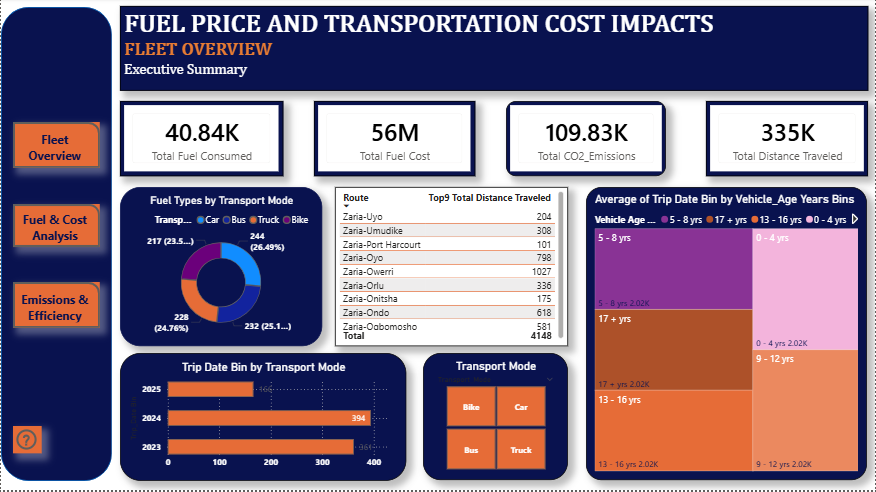

This screenshot's page, from the dashboard's own definition file:
{"tool":"powerbi","page":{"name":"Page 1","canvas":[1280,720],"ordinal":0},"visuals":[{"type":"textbox","box":[174.1,11.7,1094.6,124.4],"z":0},{"type":"shape","box":[0,13.2,162.4,693.7],"z":1000},{"type":"cardVisual","fields":{"Data":["Sum(Working Dataset.Fuel_Consumed)"]},"box":[174.1,150.7,238.5,109.8],"z":6000},{"type":"cardVisual","fields":{"Data":["Sum(Working Dataset.Fuel_Cost)"]},"box":[458,150.7,235.6,109.8],"z":7000},{"type":"cardVisual","fields":{"Data":["Sum(Working Dataset.CO2_Emissions)"]},"box":[739,150.7,234.1,109.8],"z":8000},{"type":"cardVisual","fields":{"Data":["Sum(Working Dataset.Distance_Traveled)"]},"box":[1031.7,150.7,237.1,109.8],"z":9000},{"type":"donutChart","fields":{"Category":["Working Dataset.Transport_Mode"],"Y":["CountNonNull(Working Dataset.Fuel_Type)"]},"box":[174.1,276.6,295.6,232.7],"z":10000},{"type":"tableEx","fields":{"Values":["Working Dataset.Route","Sum(Working Dataset.Distance_Traveled)"]},"box":[488.8,276.6,341,232.7],"z":11000},{"type":"treemap","title":"Average of Trip Date Bin by Vehicle_Age Years Bins ","fields":{"Group":["Working Dataset.Vehicle_Age Years Bins"],"Details":["Working Dataset.Vehicle_Age Years Bins"],"Values":["Avg(Working Dataset.Trip_Date Bin)"]},"box":[856.1,276.6,411.2,428.8],"z":12000},{"type":"clusteredBarChart","title":"Trip Date Bin by Transport Mode","fields":{"Category":["Working Dataset.Trip_Date Bin"],"Y":["CountNonNull(Working Dataset.Transport_Mode)"]},"box":[174.1,519.5,418.5,187.3],"z":13000},{"type":"slicer","title":"Transport Mode","fields":{"Values":["Working Dataset.Transport_Mode"]},"box":[617.6,519.5,212.2,185.9],"z":14000},{"type":"actionButton","title":"help","box":[60,629.3,42.4,39.5],"z":14500},{"type":"actionButton","title":"emission","box":[17.6,415.6,127.3,67.3],"z":14625},{"type":"actionButton","title":"cost","box":[17.6,301.5,127.3,62.9],"z":14750},{"type":"actionButton","box":[17.6,181.5,127.3,67.3],"z":15000}]}

Visuals, with their boxes in screenshot pixels (x1, y1, x2, y2), scaled from the page's 1280x720 canvas onto the 876x492 screenshot:
textbox: l=119, t=8, r=868, b=93
shape: l=0, t=9, r=111, b=483
cardVisual - Sum(Working Dataset.Fuel_Consumed): l=119, t=103, r=282, b=178
cardVisual - Sum(Working Dataset.Fuel_Cost): l=313, t=103, r=475, b=178
cardVisual - Sum(Working Dataset.CO2_Emissions): l=506, t=103, r=666, b=178
cardVisual - Sum(Working Dataset.Distance_Traveled): l=706, t=103, r=868, b=178
donutChart - Working Dataset.Transport_Mode x CountNonNull(Working Dataset.Fuel_Type): l=119, t=189, r=321, b=348
tableEx - Working Dataset.Route x Sum(Working Dataset.Distance_Traveled): l=335, t=189, r=568, b=348
"Average of Trip Date Bin by Vehicle_Age Years Bins " treemap: l=586, t=189, r=867, b=482
"Trip Date Bin by Transport Mode" clusteredBarChart: l=119, t=355, r=406, b=483
"Transport Mode" slicer: l=423, t=355, r=568, b=482
"help" actionButton: l=41, t=430, r=70, b=457
"emission" actionButton: l=12, t=284, r=99, b=330
"cost" actionButton: l=12, t=206, r=99, b=249
actionButton: l=12, t=124, r=99, b=170
